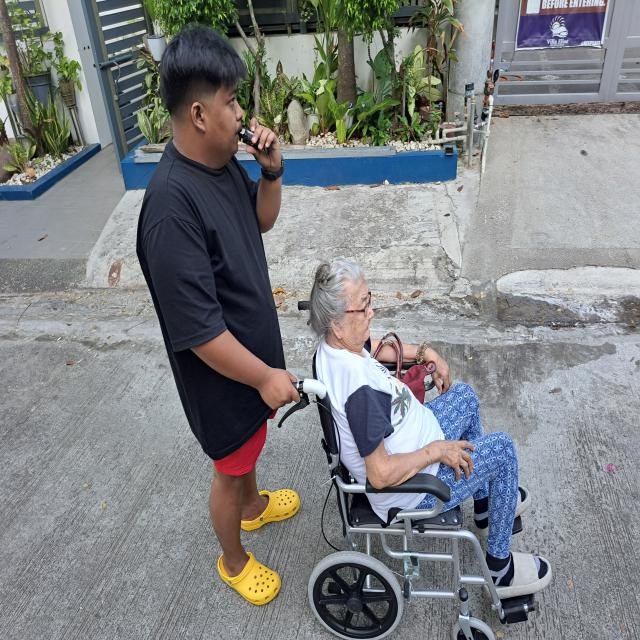wheelchairs: (285, 296, 545, 640)
